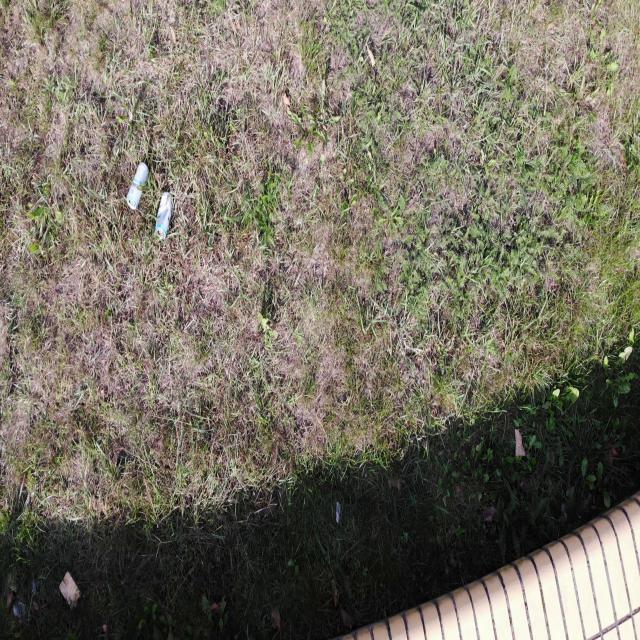rubbish: (126, 162, 149, 209), (59, 569, 83, 614), (155, 191, 172, 239)
